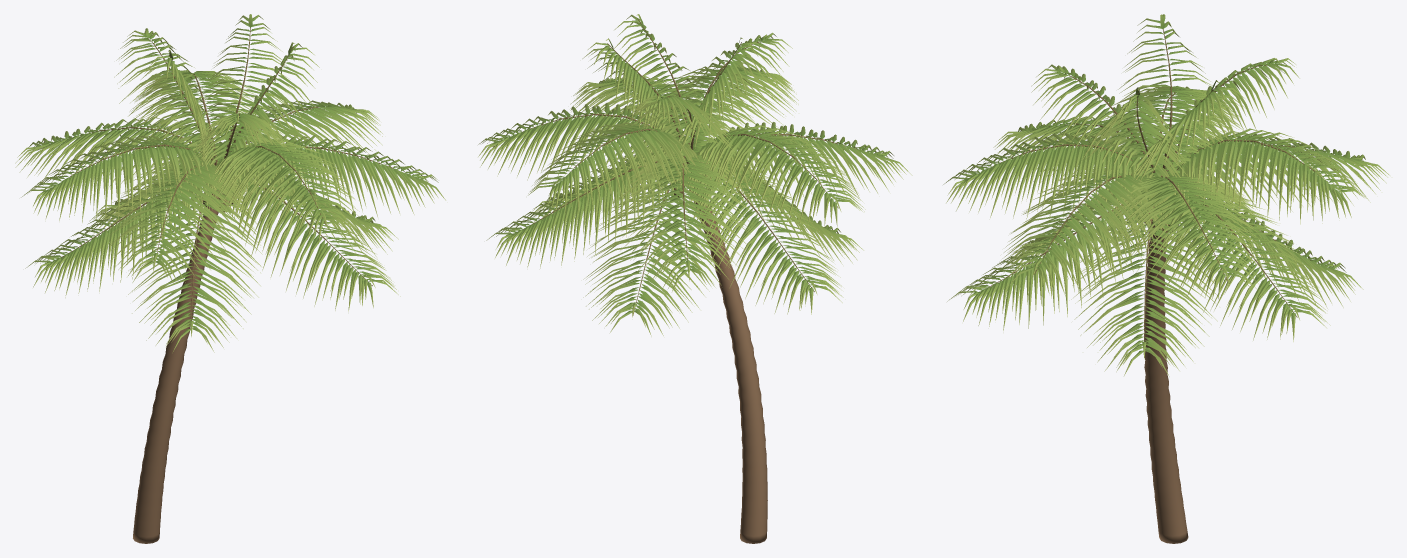
3 views of the same model, side by side, from view 1: azimuth 30°, elevation 25°; view 2: azimuth 150°, elevation 25°; view 3: azimuth 270°, elevation 25° (orthographic). The views are drawn at different scales.
Visible parts, largest first — view 1: palm-leaf, Mesh_fibrous-trunk, Mesh_crown-and-coconuts; view 2: palm-leaf, Mesh_fibrous-trunk, Mesh_crown-and-coconuts; view 3: palm-leaf, Mesh_fibrous-trunk, Mesh_crown-and-coconuts.
Part boxes in pixels (x1,y1,x2,y2): palm-leaf: [15, 14, 445, 352]; Mesh_fibrous-trunk: [133, 190, 223, 543]; Mesh_crown-and-coconuts: [37, 28, 393, 320]; palm-leaf: [478, 14, 912, 336]; Mesh_fibrous-trunk: [684, 174, 767, 543]; Mesh_crown-and-coconuts: [493, 18, 887, 315]; palm-leaf: [943, 14, 1389, 376]; Mesh_fibrous-trunk: [1144, 225, 1188, 543]; Mesh_crown-and-coconuts: [972, 29, 1321, 341].
Size of the model in its own units: 8.52 by 10.86 by 8.33.
3 materials, 1 textured.
